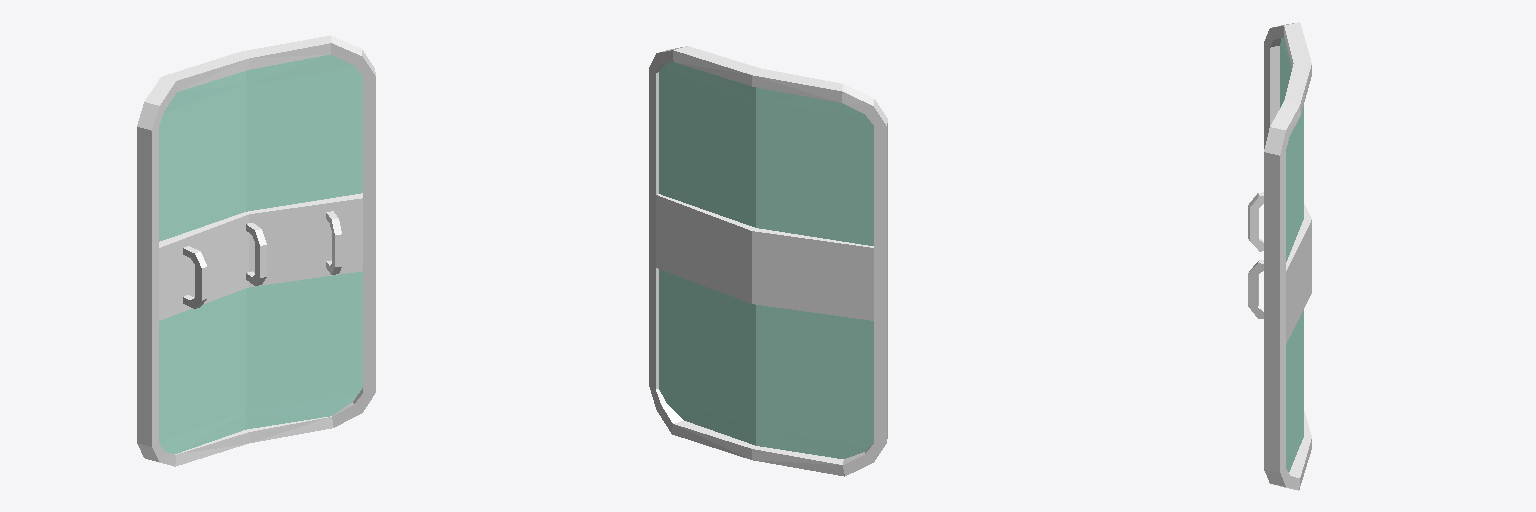
The picture shows the model from 3 angles: view 1: azimuth 30°, elevation 25°; view 2: azimuth 150°, elevation 25°; view 3: azimuth 270°, elevation 25°; orthographic projection.
Visible parts, largest first — view 1: Window1, Handle1; view 2: Window1, Handle1; view 3: Handle1, Window1.
Part boxes in pixels (x1,y1,x2,y2): Window1: (159,55,362,453); Handle1: (137,35,375,466); Window1: (659,62,873,458); Handle1: (649,46,887,476); Handle1: (1248,22,1311,490); Window1: (1280,37,1303,471).
Bounding box in the file's own units: 1.71 × 2.64 × 0.398.
2 materials, 1 textured.